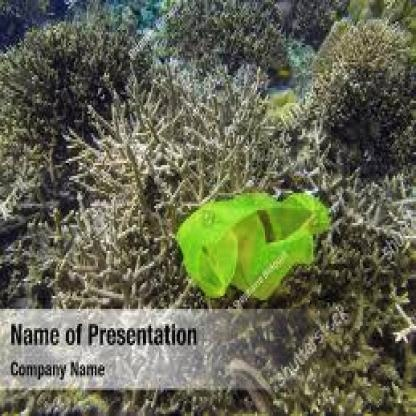pbag: (175, 191, 328, 304)
